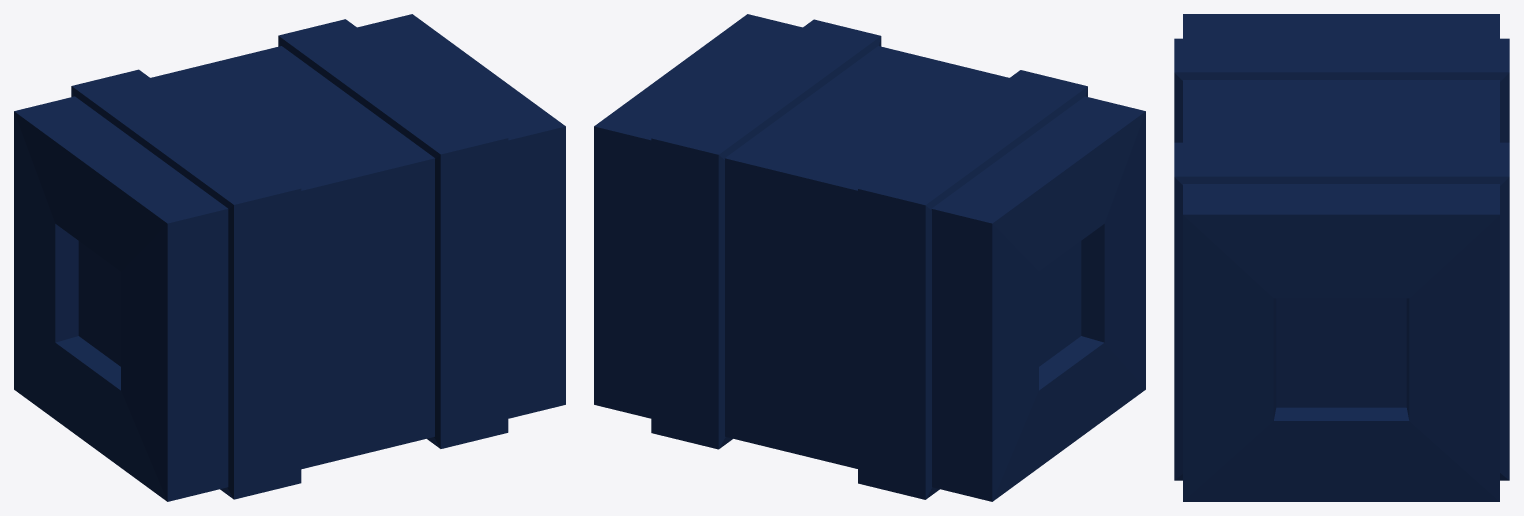
File: Crate_CAGE.FBX
3 renders of one model, left to right at view 1: azimuth 30°, elevation 25°; view 2: azimuth 150°, elevation 25°; view 3: azimuth 270°, elevation 25°, orthographic. The views are drawn at different scales.
Visible parts, largest first — view 1: CAGE; view 2: CAGE; view 3: CAGE.
Part boxes in pixels (left/top/right/bottom): CAGE: left=14, top=14, right=565, bottom=501; CAGE: left=594, top=14, right=1145, bottom=501; CAGE: left=1174, top=14, right=1509, bottom=501.
Bounding box in the file's own units: 1.04 × 0.7231 × 0.7231.
